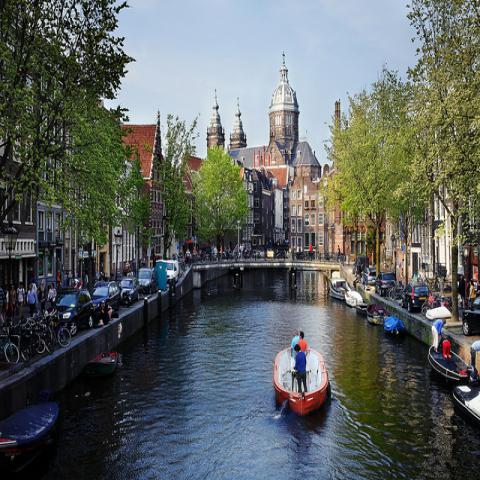car: (54, 288, 95, 334), (90, 281, 122, 311), (402, 284, 432, 315), (462, 298, 479, 335), (119, 278, 139, 304), (139, 267, 158, 294), (375, 272, 396, 296), (361, 264, 378, 286), (166, 260, 179, 284), (352, 256, 369, 274)
